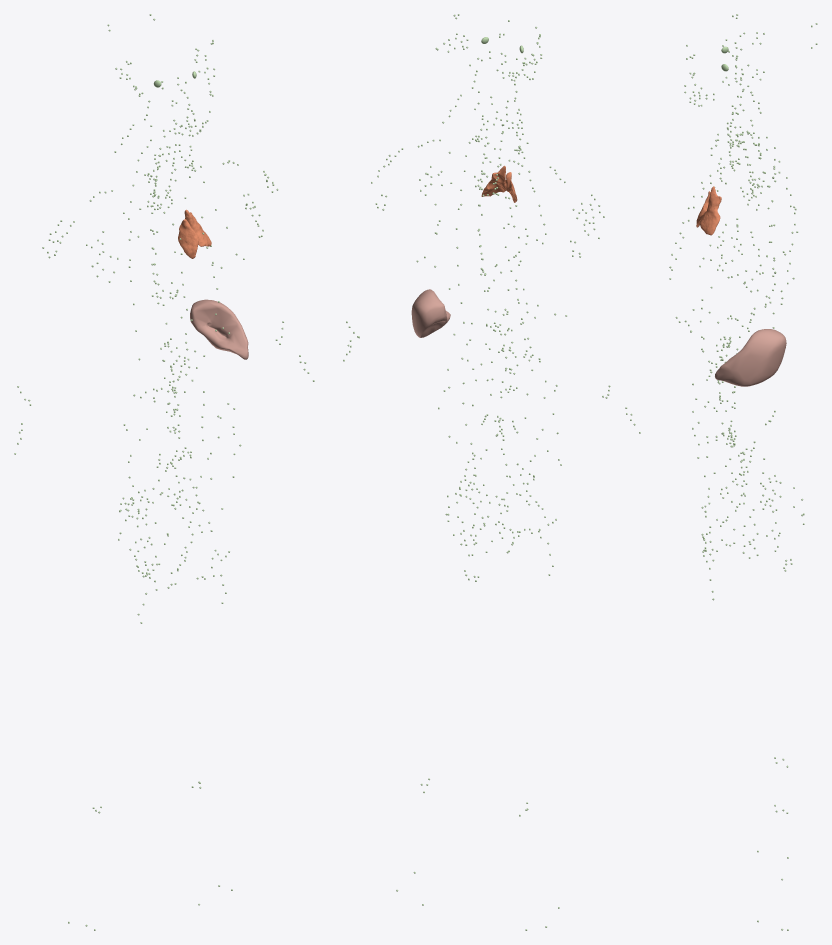
File: lymphoid.glb
3 renders of one model, left to right at view 1: azimuth 30°, elevation 25°; view 2: azimuth 150°, elevation 25°; view 3: azimuth 270°, elevation 25°, orthographic.
Visible parts, largest first — view 1: Spleen; view 2: Spleen; view 3: Spleen, Left lobe of thymus.
Part boxes in pixels (x1,y1,x2,y2): Spleen: (190,299,248,359); Spleen: (411,289,450,337); Spleen: (715,329,786,386); Left lobe of thymus: (699,186,721,235).
Size of the model in its own units: 0.4523 by 1.28 by 0.1963.
